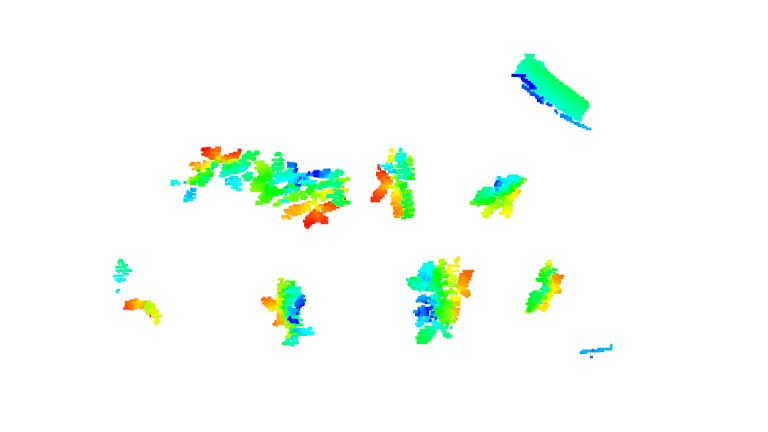chickpea: (252, 152, 354, 227), (403, 258, 476, 349), (171, 143, 256, 203), (255, 273, 316, 348), (366, 145, 422, 221), (114, 254, 162, 333), (469, 170, 532, 220), (525, 259, 565, 319)
